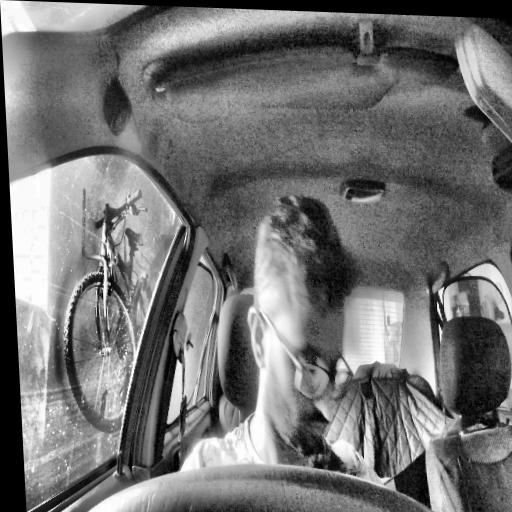drowsy: (240, 190, 367, 460)
